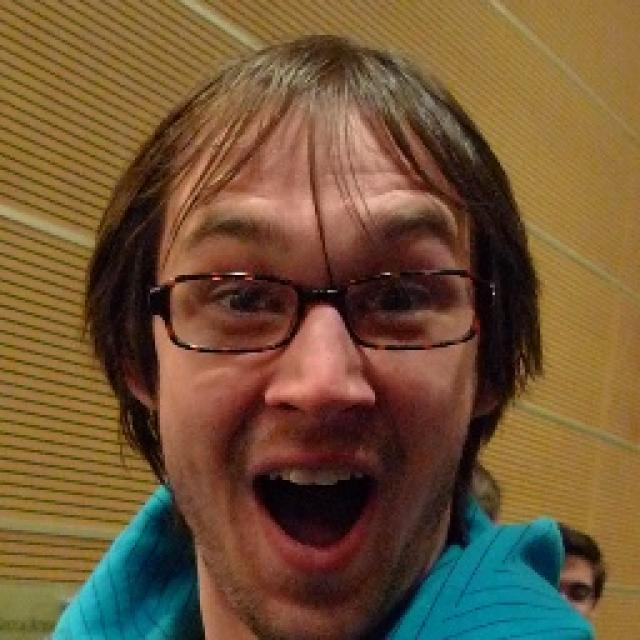earlobe: (123, 386, 160, 414), (474, 392, 511, 418)
eye: (205, 279, 279, 324), (367, 283, 428, 319)
nose: (269, 399, 373, 436)
wholeear: (117, 320, 160, 411), (477, 318, 512, 418)
